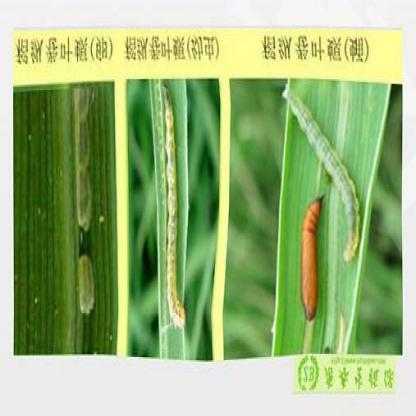leaf-folder: (268, 83, 372, 333), (152, 86, 198, 332), (64, 89, 98, 335)
